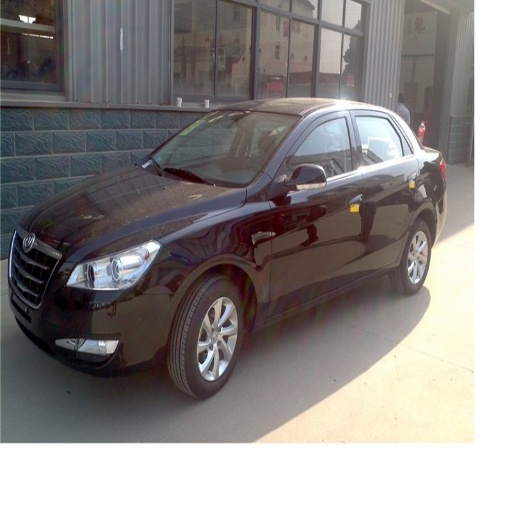back_left_door: (352, 111, 418, 261)
front_bumper: (10, 253, 178, 375)
front_glass: (143, 112, 300, 186)
front_left_door: (270, 111, 367, 309)
